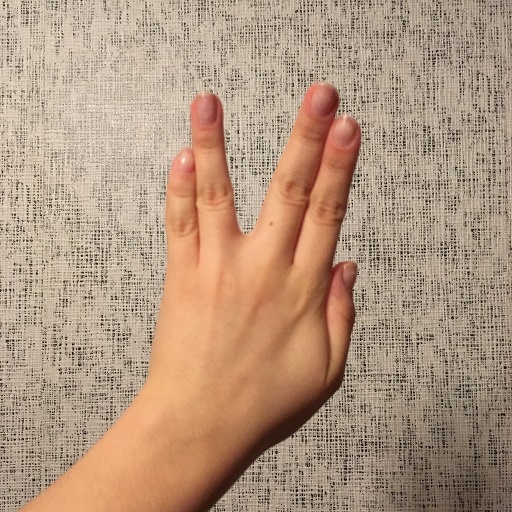hand: (177, 96, 348, 426)
